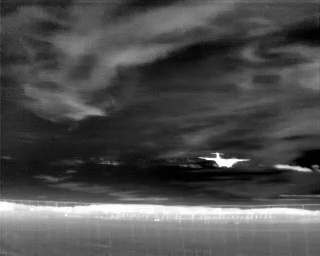AIRPLANE: (197, 147, 252, 172)
